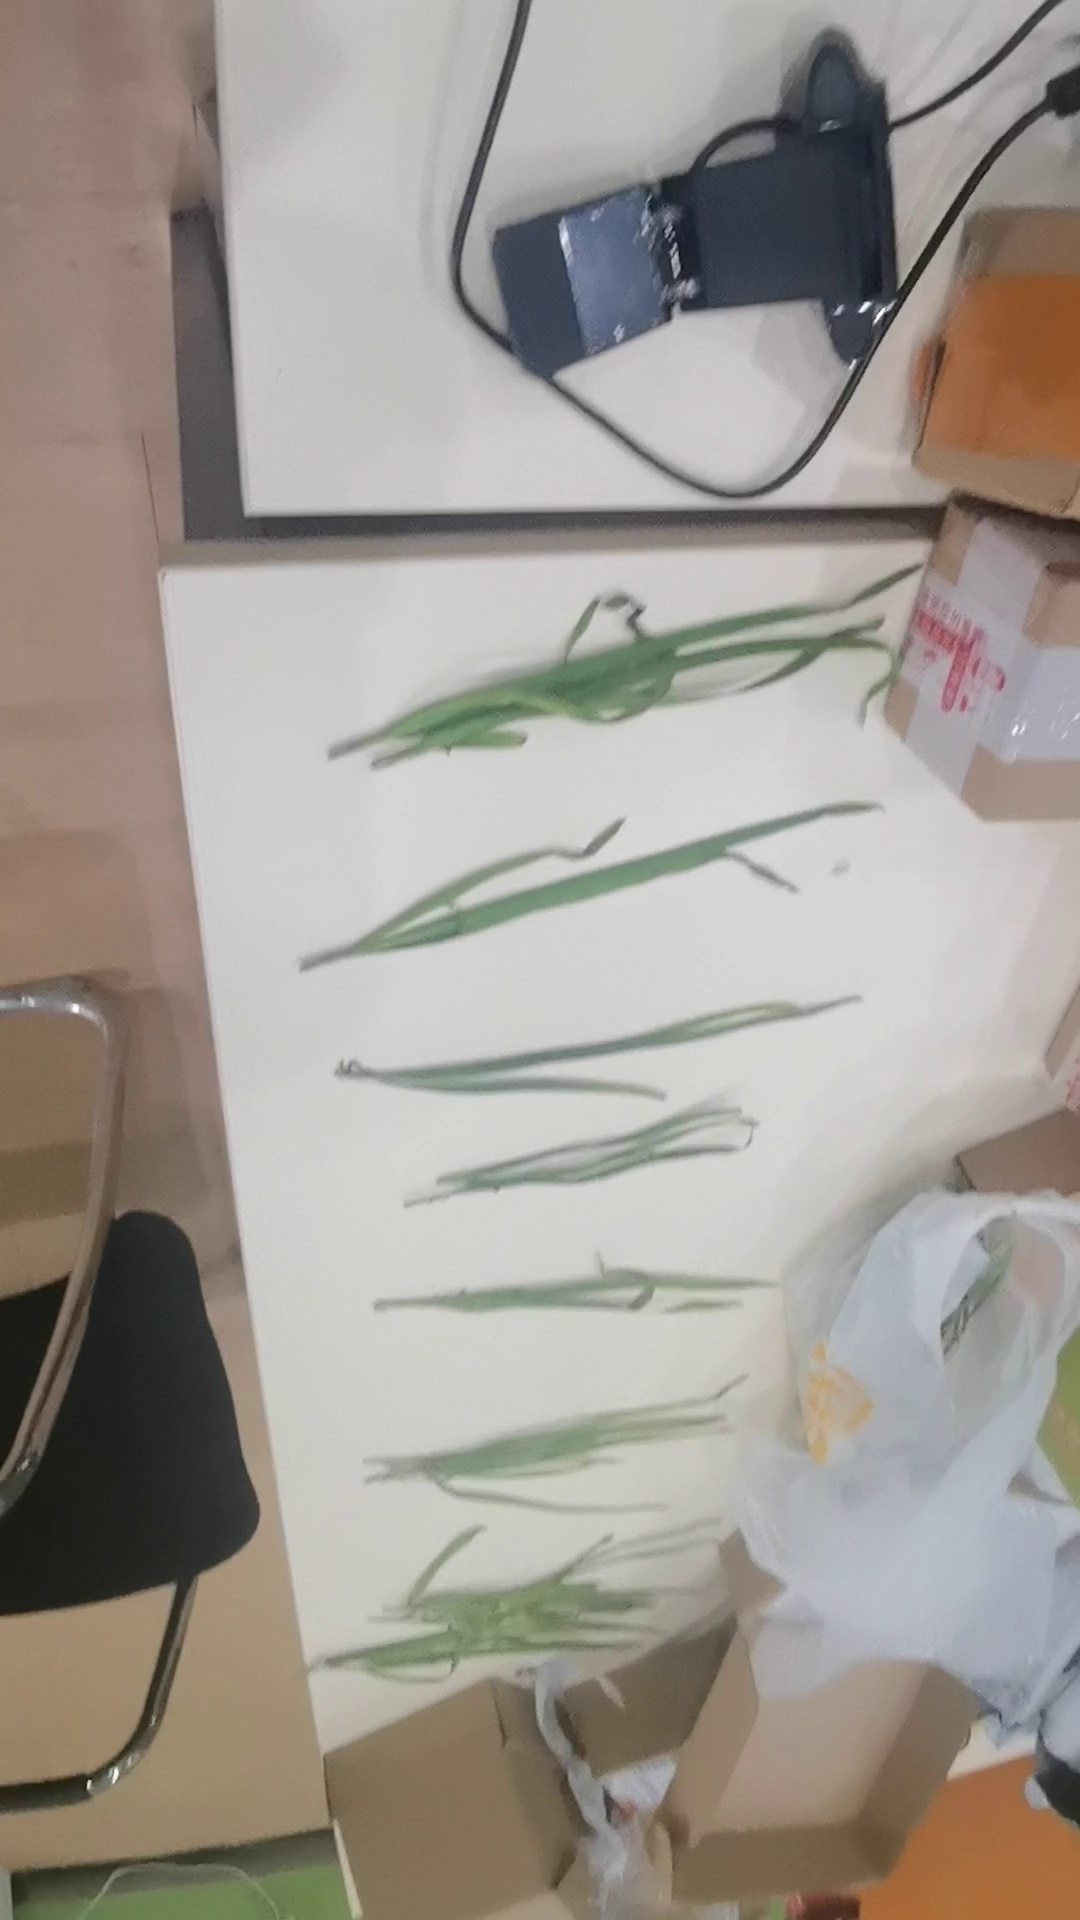chives: (273, 582, 957, 774), (267, 804, 953, 982), (326, 1537, 794, 1702), (296, 1002, 932, 1111), (320, 1386, 820, 1523), (334, 1243, 885, 1339), (357, 1127, 851, 1215)
